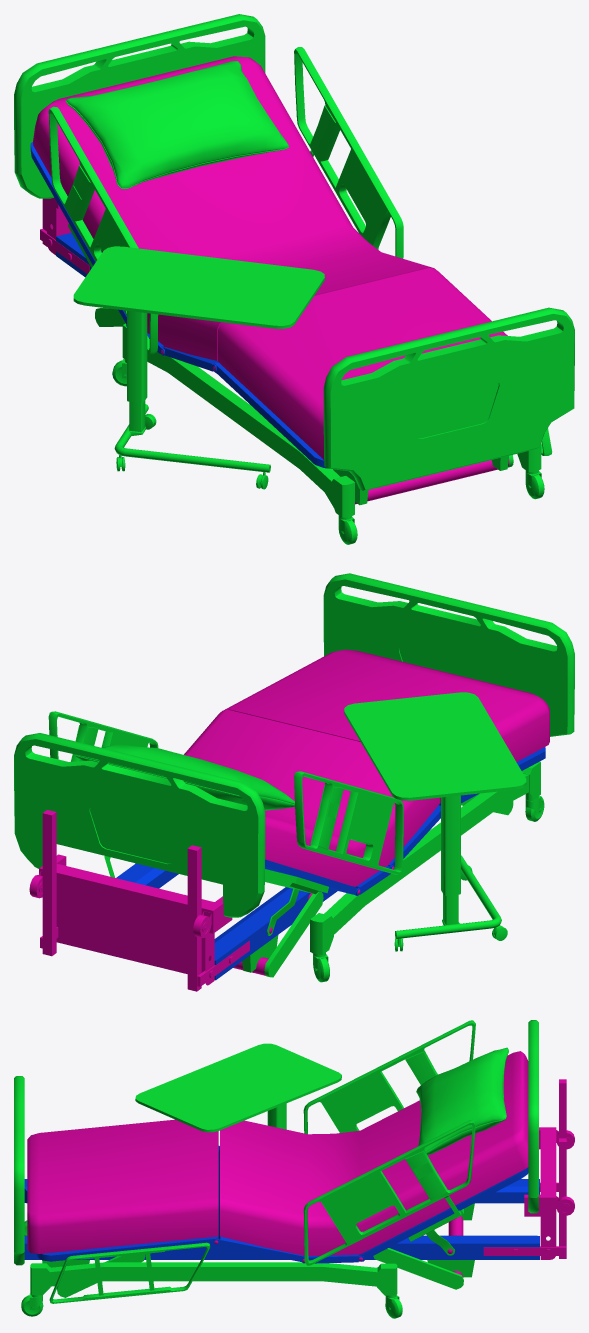
File: Nursing XR_Hospital Bed_Export0.17.fbx
3 views of the same model, one above another, from view 1: azimuth 30°, elevation 25°; view 2: azimuth 150°, elevation 25°; view 3: azimuth 270°, elevation 25° (orthographic). The views are drawn at different scales.
Visible parts, largest first — view 1: Hospital Bed; view 2: Hospital Bed; view 3: Hospital Bed.
Part boxes in pixels (x1,y1,x2,y2): Hospital Bed: (14, 14, 574, 544); Hospital Bed: (14, 573, 574, 991); Hospital Bed: (14, 1020, 574, 1318).
Size of the model in its own units: 142 by 100 by 236.
